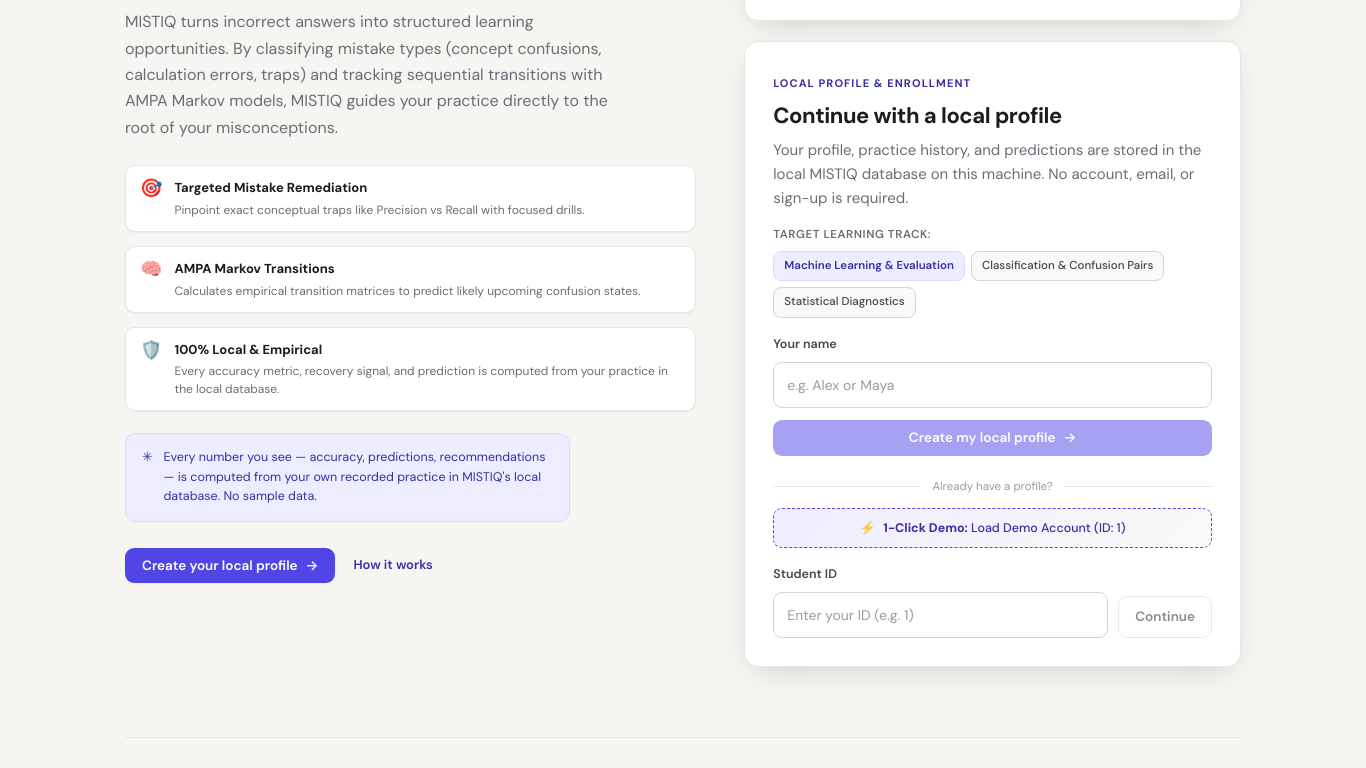
Scenario: MISTIQ student app › loads a backend question, submits the answer, and shows checked feedback
(page scrolled)
Type "Sam Learner" into the field labelled "Your name" at (993, 385), box [773,362,1212,408]
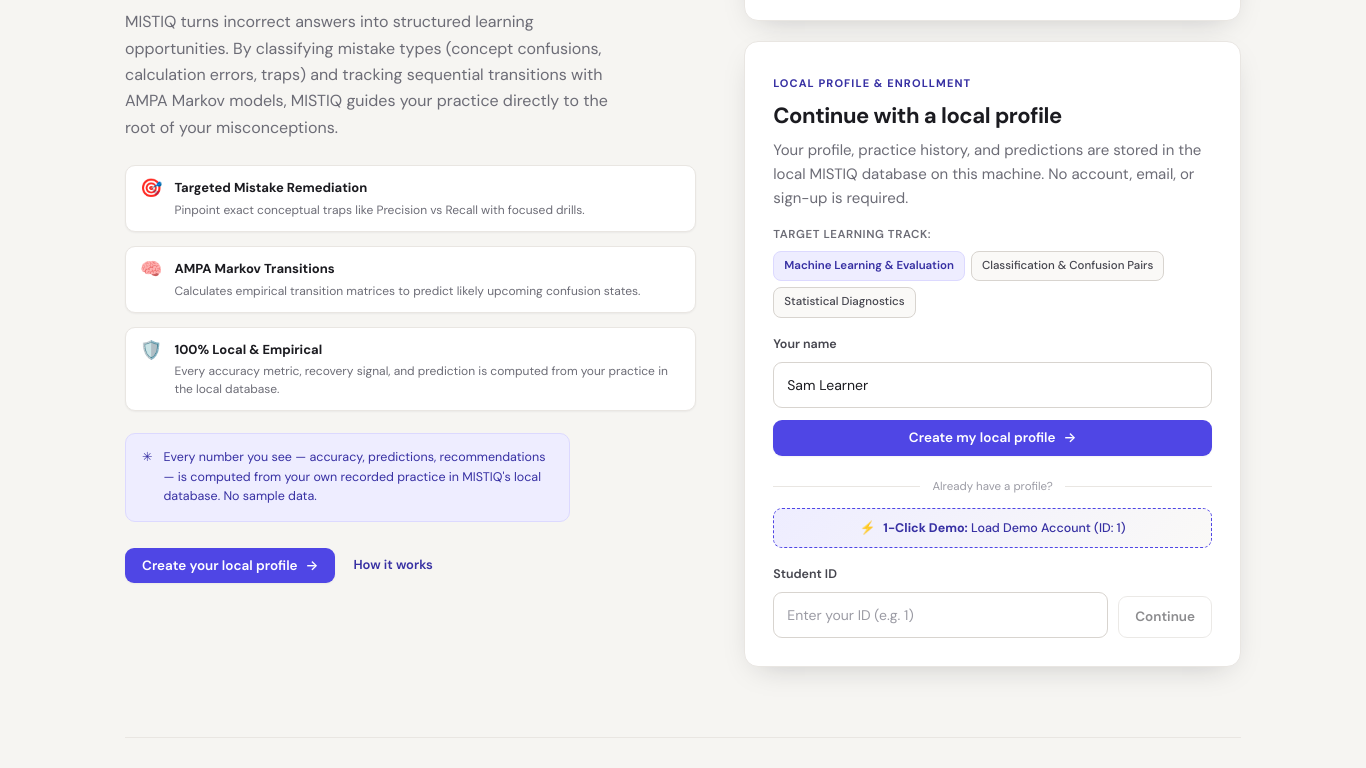
Click the button "Create my local profile →" at (993, 438), box [773,420,1212,456]
(page scrolled)
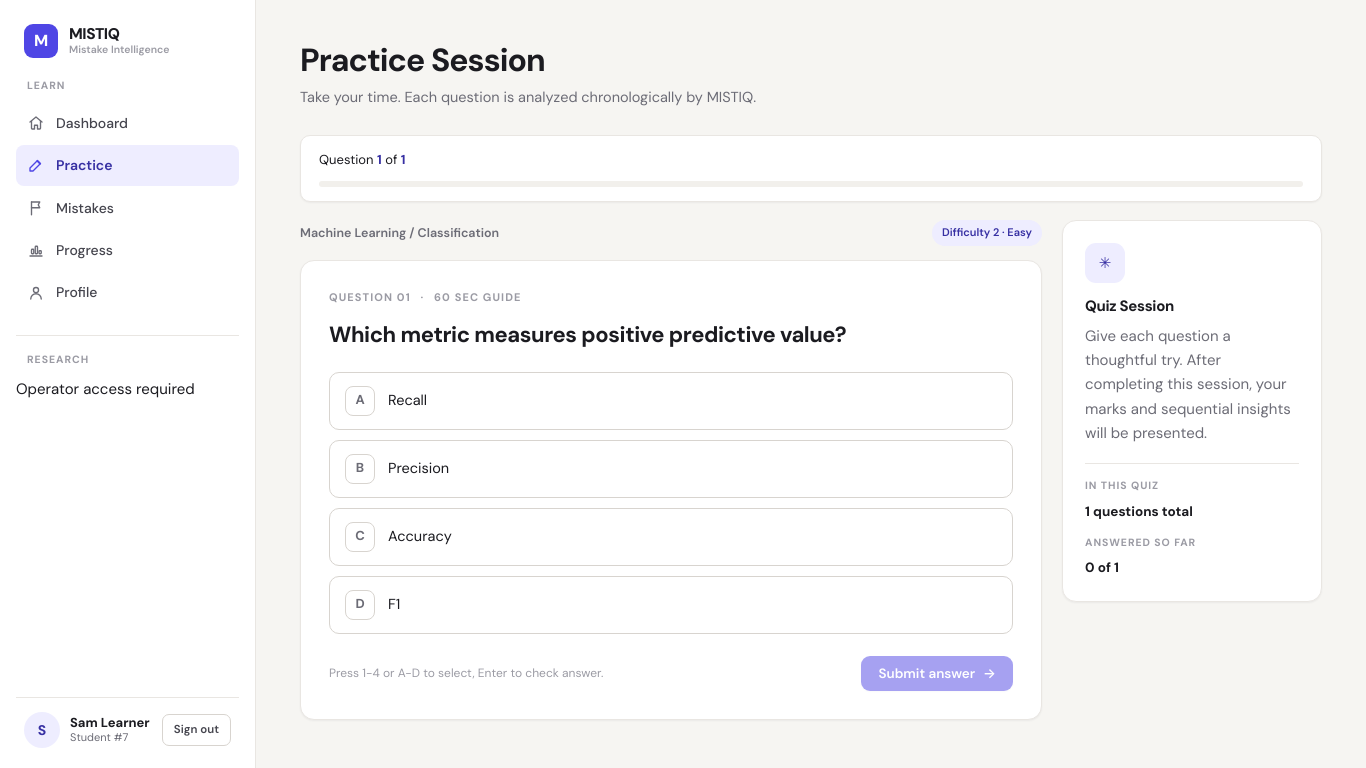
Result: the heading "Which metric measures positive predictive value?" is shown at [329,320,846,349]
Click the text "Precision" at (419, 468), box [388,459,449,477]
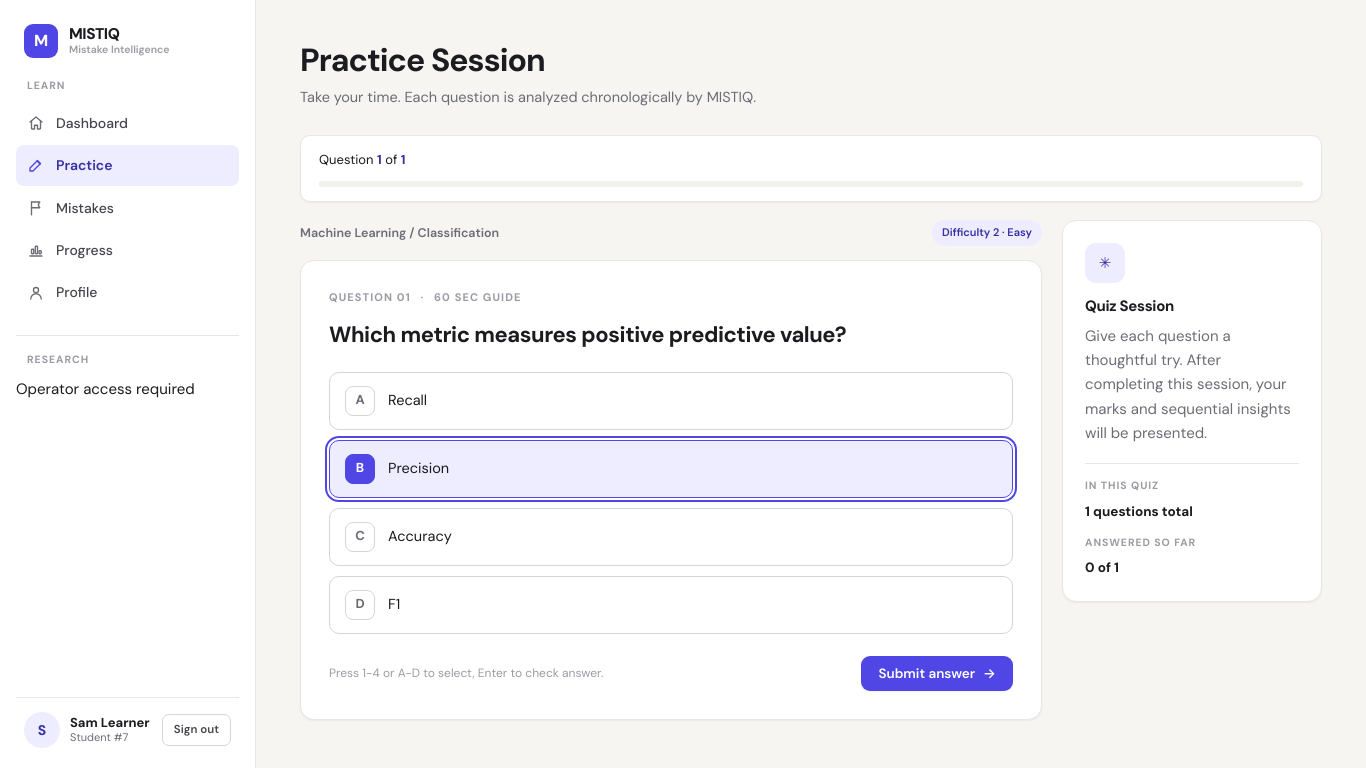
Click the button "Submit answer →" at (937, 674), box [861,656,1013,691]
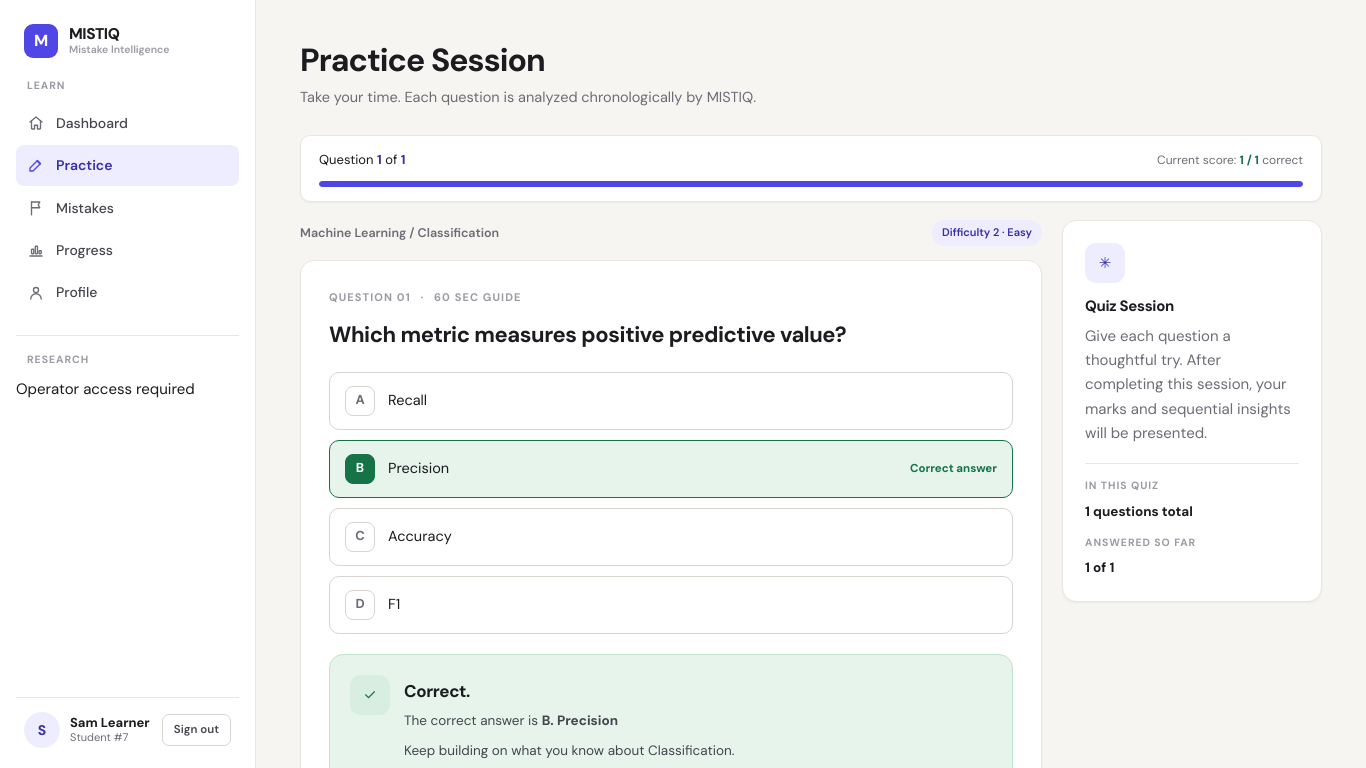
Result: the heading "Correct." is shown at [404,680,470,702]
Result: the text "The correct answer is B. Precision" is shown at [404,712,618,729]
